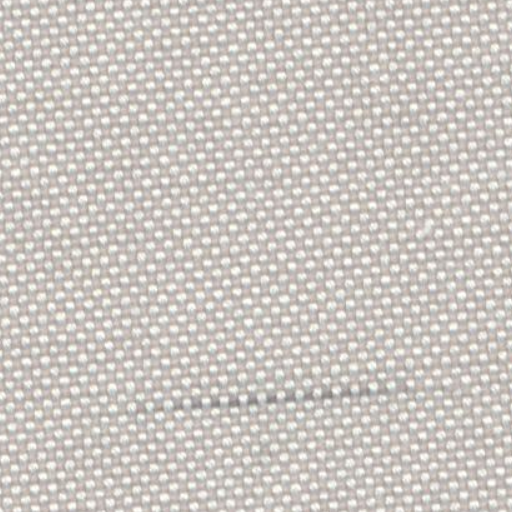WuZi: (140, 378, 404, 418)
